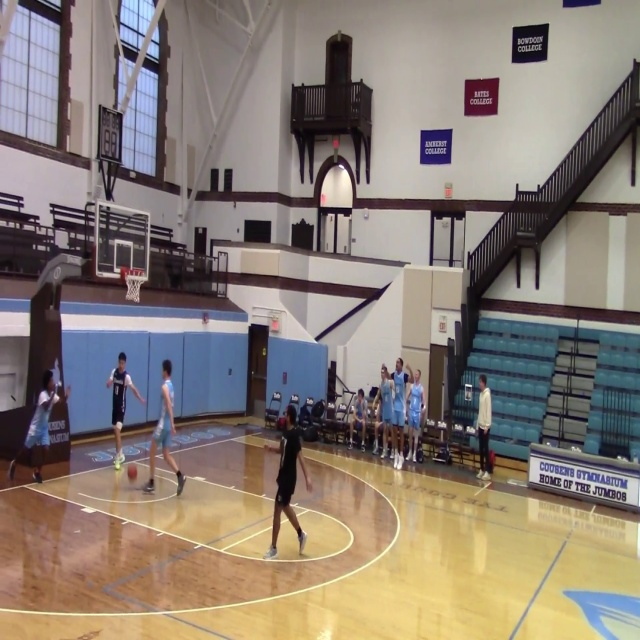Basketball: (127, 464, 137, 480), (51, 394, 59, 404)
